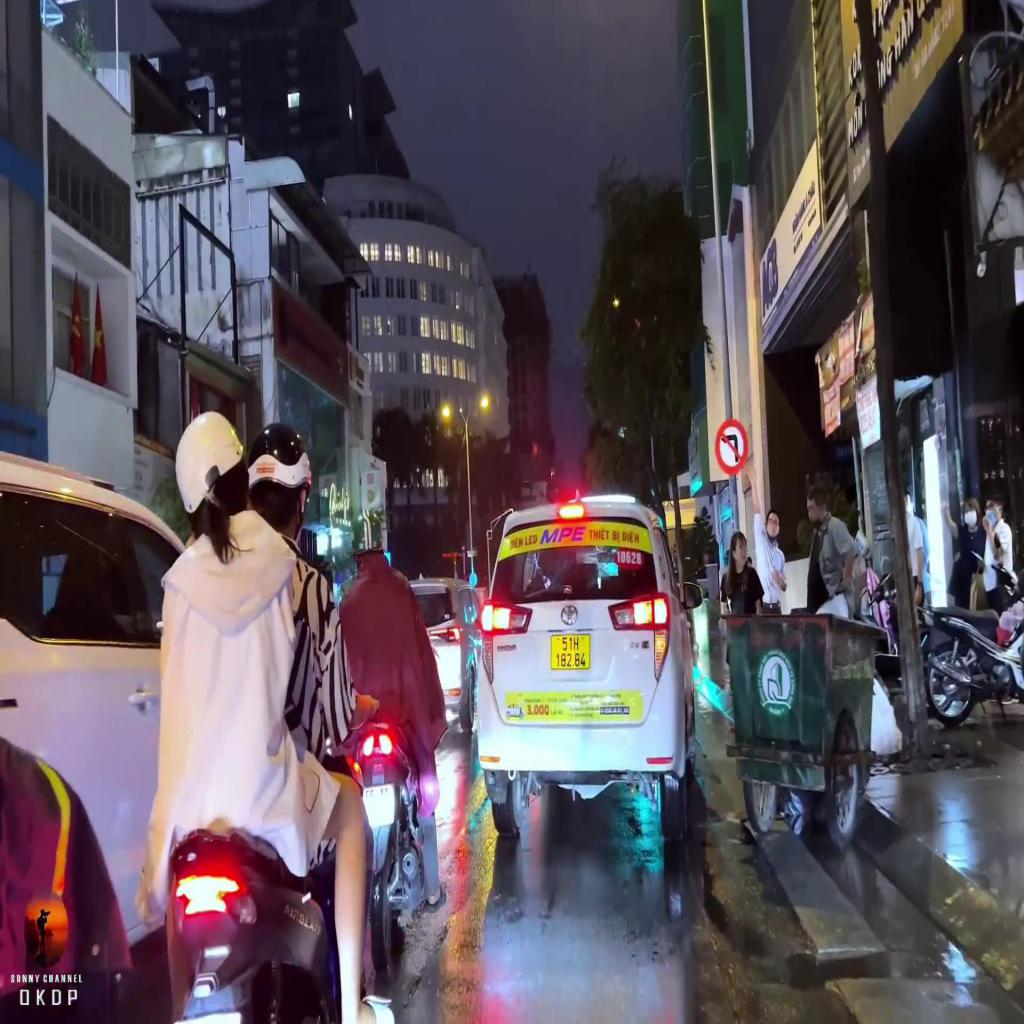cam_re_trai: (716, 419, 748, 474)
